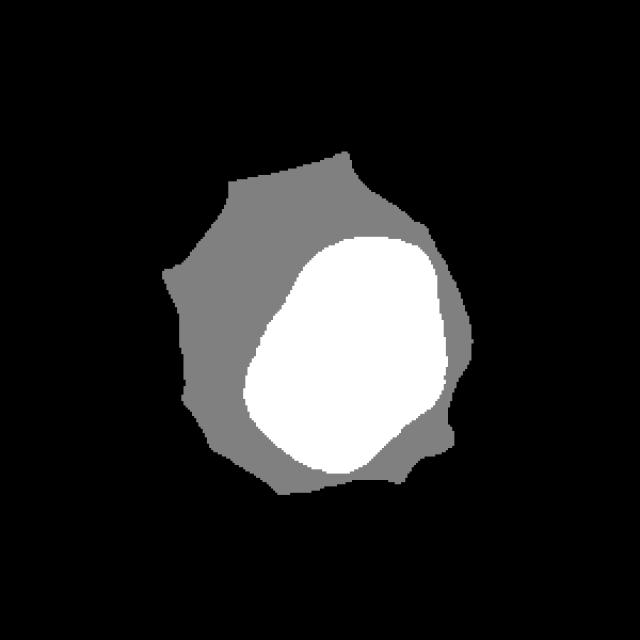WBC: (138, 139, 504, 514)
